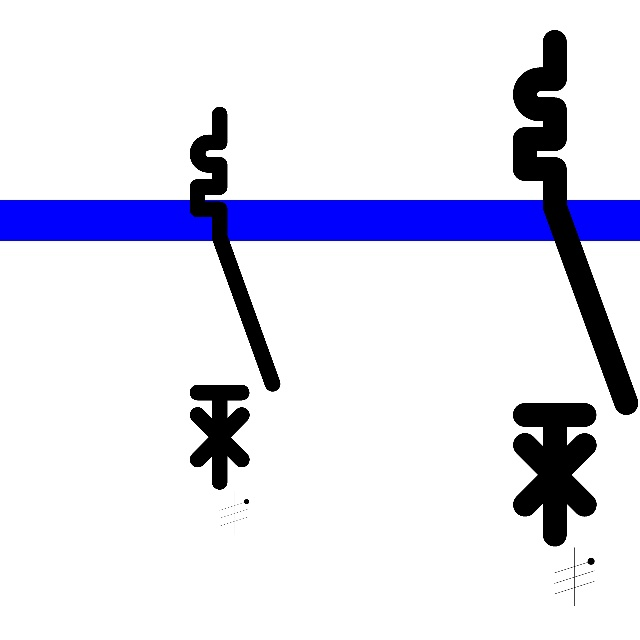interruptor_termomagnetico: (512, 29, 639, 547), (188, 105, 282, 491)
